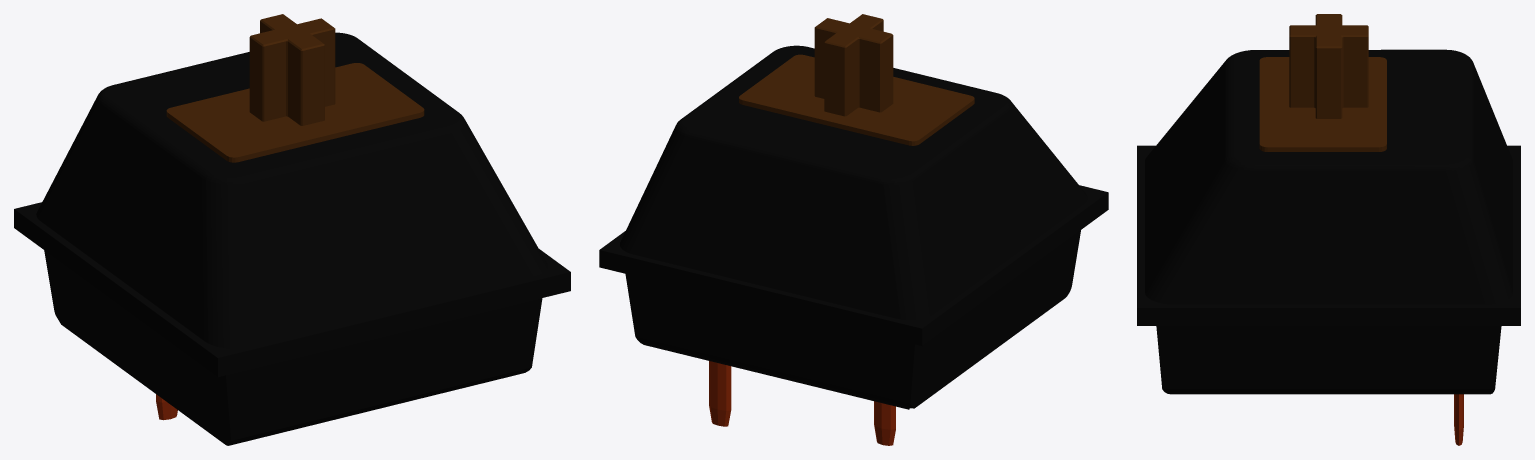
File: mxbrown.glb
3 views of the same model, side by side, from view 1: azimuth 30°, elevation 25°; view 2: azimuth 150°, elevation 25°; view 3: azimuth 270°, elevation 25° (orthographic). The views are drawn at different scales.
Parts seen in each view (by area): view 1: BrownMX; view 2: BrownMX; view 3: BrownMX.
Boxes of the visible parts, x1=… form: BrownMX: x1=14, y1=14, x2=570, y2=445; BrownMX: x1=599, y1=14, x2=1108, y2=445; BrownMX: x1=1137, y1=14, x2=1520, y2=445.
Size of the model in its own units: 0.0145 by 0.0157 by 0.0145.
